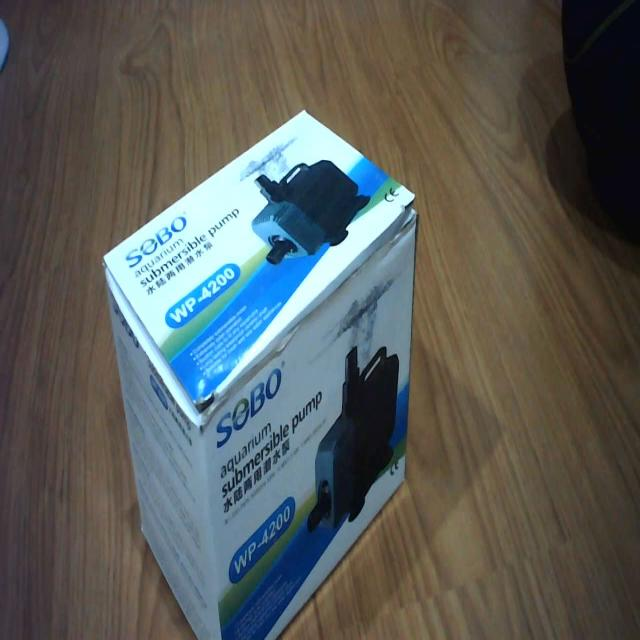SOBO_WP_4200: (100, 91, 421, 640)
